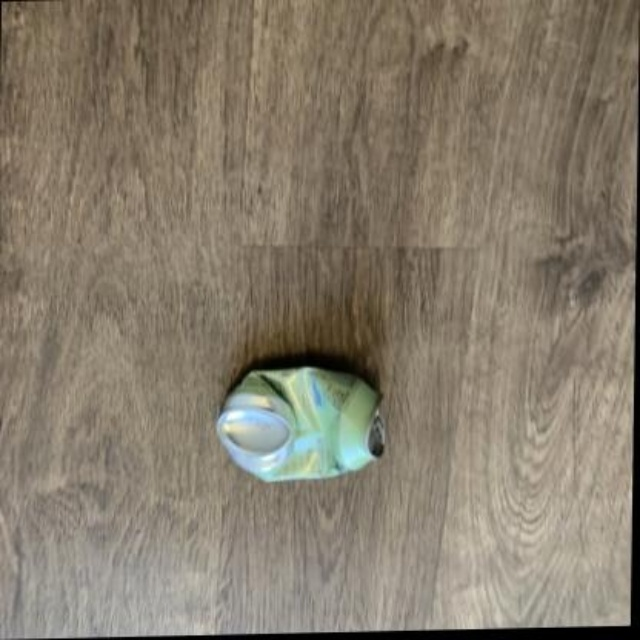trash: (217, 366, 382, 480)
